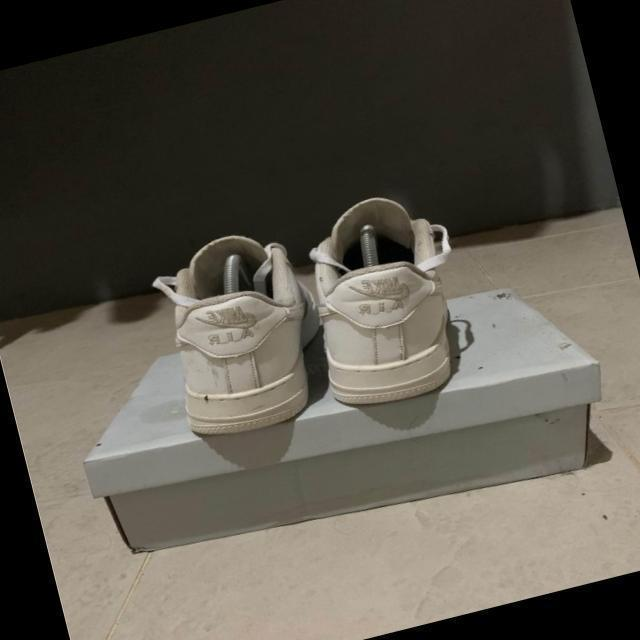nike fake air force: (144, 217, 340, 446), (286, 185, 470, 416)
